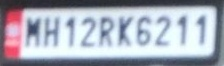character: (43, 14, 60, 48), (97, 14, 113, 48), (79, 14, 95, 47), (117, 13, 133, 45), (135, 13, 151, 45), (154, 14, 170, 46), (24, 16, 41, 46), (193, 13, 206, 45), (175, 14, 188, 45), (64, 16, 75, 47)
